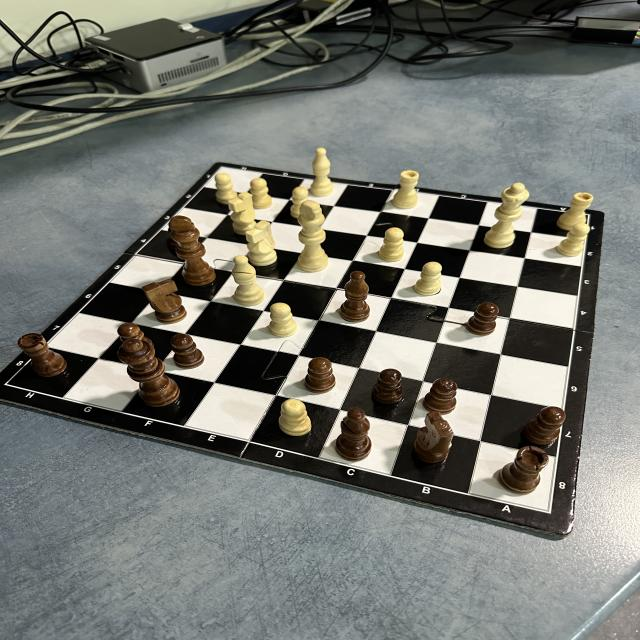Black-Bishop: (336, 407, 372, 461), (340, 270, 370, 322)
Black-King: (168, 216, 216, 286)
Black-Knight: (413, 411, 454, 464), (141, 278, 188, 324)
Black-Pawn: (524, 406, 566, 446), (423, 378, 458, 416), (170, 333, 205, 370), (372, 368, 404, 405), (304, 357, 336, 393), (466, 302, 499, 336), (117, 322, 145, 339)
Black-Queen: (117, 338, 181, 407)
Black-Rook: (499, 446, 549, 495), (18, 332, 68, 378)
White-Bishop: (232, 255, 264, 306), (309, 148, 334, 197)
White-King: (298, 200, 328, 273)
White-Knight: (245, 220, 278, 266), (228, 192, 254, 236)
White-Pawn: (278, 399, 312, 436), (556, 223, 590, 257), (268, 302, 297, 338), (414, 262, 444, 296), (378, 227, 404, 262), (250, 178, 272, 210), (214, 173, 233, 205), (290, 188, 308, 218)
White-Queen: (483, 182, 530, 249)
White-Rook: (556, 192, 594, 231), (392, 171, 419, 209)
